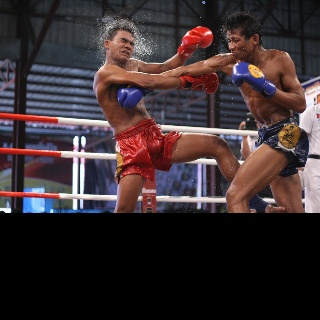without_mask: (226, 28, 253, 59), (109, 30, 134, 63)
